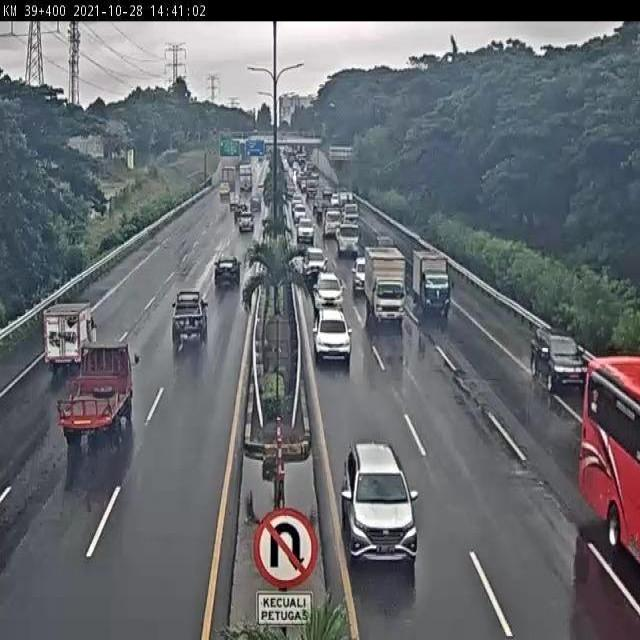car: (341, 439, 417, 565), (531, 324, 592, 393), (171, 287, 209, 345), (314, 306, 351, 362), (312, 272, 345, 315), (213, 253, 241, 287)
mid truck: (59, 338, 135, 434)
small truck: (44, 301, 98, 371)
truck-m-: (364, 244, 407, 324)
truck-s-: (412, 248, 451, 313)
